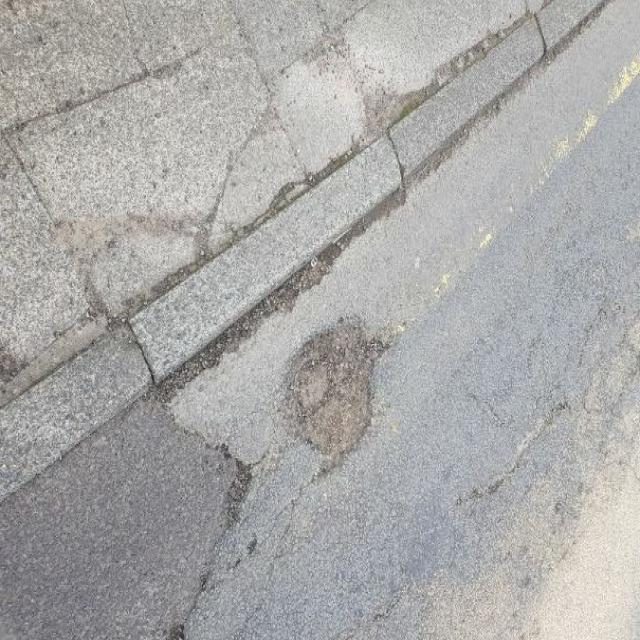Pothole: (276, 312, 400, 482)
